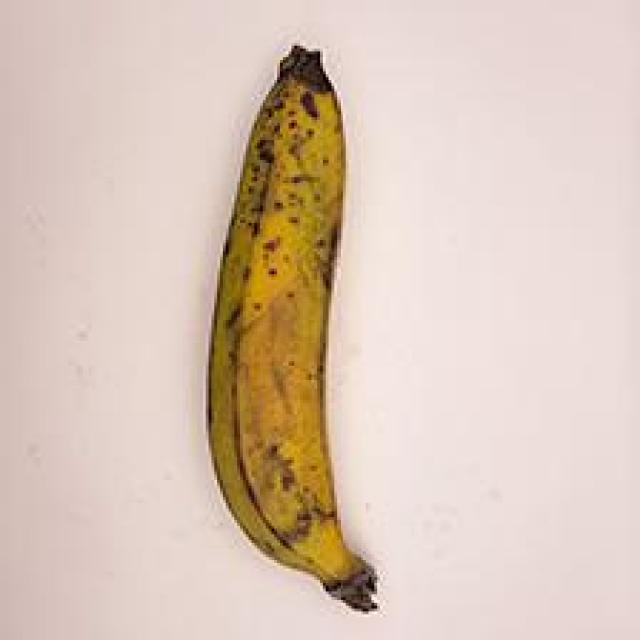Overripe: (114, 26, 432, 610)
